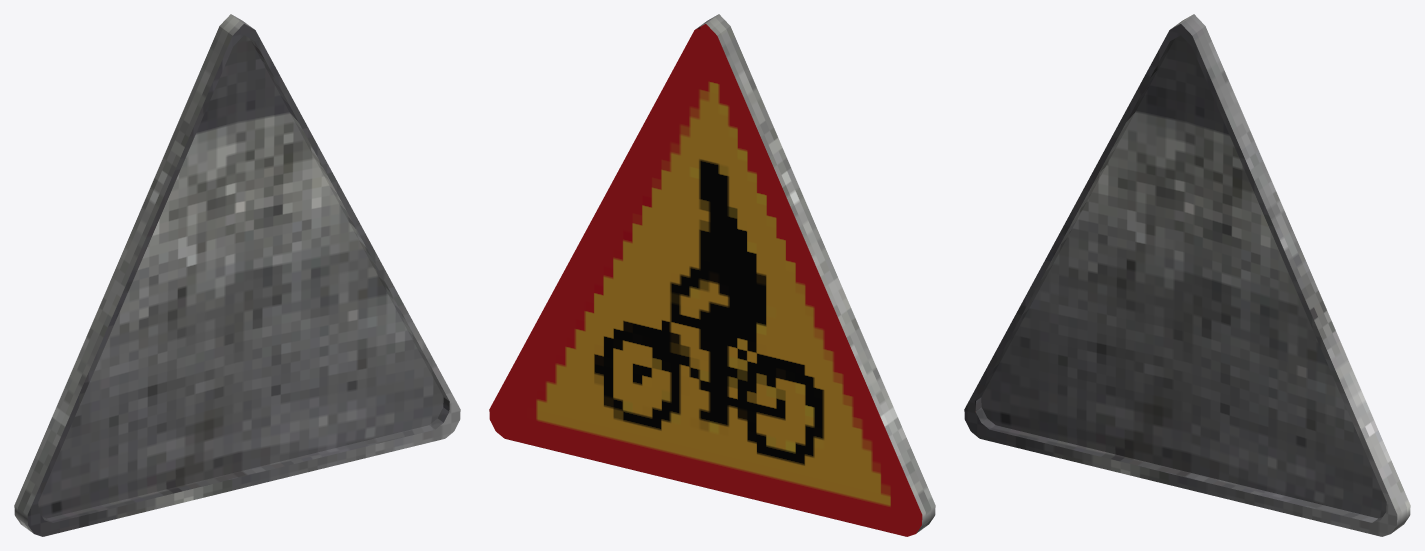
The model's file is SeñalBici.fbx.
3 renders of one model, left to right at view 1: azimuth 30°, elevation 25°; view 2: azimuth 150°, elevation 25°; view 3: azimuth 330°, elevation 25°, orthographic.
Visible parts, largest first — view 1: Señal_Triangular; view 2: Señal_Triangular; view 3: Señal_Triangular.
Boxes of the visible parts, left/top/right/bottom form: Señal_Triangular: left=14, top=14, right=460, bottom=536; Señal_Triangular: left=489, top=14, right=935, bottom=536; Señal_Triangular: left=964, top=14, right=1410, bottom=536.
Bounding box in the file's own units: 56.78 × 58.16 × 3.
